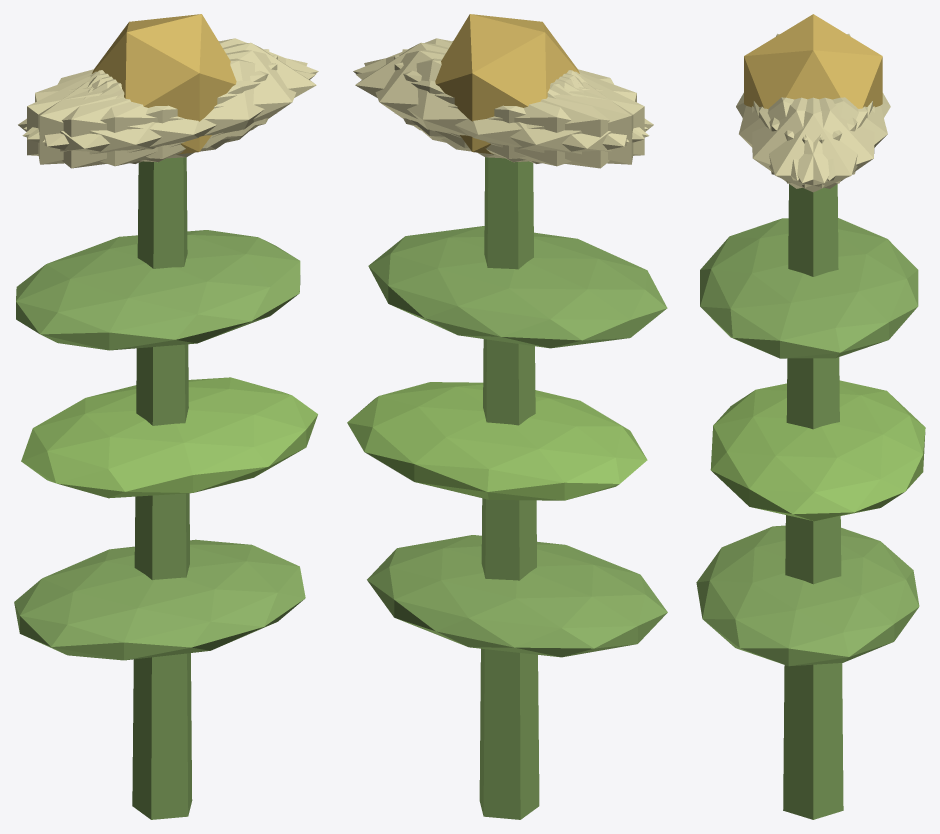
The model's file is pachystachys-coccinea.glb.
The picture shows the model from 3 angles, left to right: view 1: azimuth 30°, elevation 25°; view 2: azimuth 150°, elevation 25°; view 3: azimuth 270°, elevation 25°; orthographic projection.
Parts seen in each view (by area): view 1: leaf2, leaf0, leaf1, stem, center, petal1, petal6, petal2, petal5, petal7, petal0, petal4 (+2 smaller); view 2: leaf2, leaf1, leaf0, stem, center, petal8, petal3, petal7, petal4, petal2, petal0, petal5 (+2 smaller); view 3: leaf2, leaf1, leaf0, stem, center, petal0, petal4, petal5, petal8, petal1.
Part boxes in pixels (<box>): leaf2: <box>16,230,300,350</box>; leaf0: <box>14,539,305,660</box>; leaf1: <box>21,377,317,498</box>; stem: <box>132,157,192,819</box>; center: <box>92,14,236,154</box>; petal1: <box>22,58,315,166</box>; petal6: <box>18,71,230,168</box>; petal2: <box>38,49,269,164</box>; petal5: <box>42,50,307,158</box>; petal7: <box>27,55,277,162</box>; petal0: <box>91,42,316,148</box>; petal4: <box>24,38,318,139</box>; leaf2: <box>368,226,667,348</box>; leaf1: <box>347,382,647,500</box>; leaf0: <box>367,535,667,657</box>; stem: <box>479,157,539,819</box>; center: <box>435,14,579,154</box>; petal8: <box>356,58,649,166</box>; petal3: <box>441,71,653,168</box>; petal7: <box>402,49,633,164</box>; petal4: <box>364,50,629,158</box>; petal2: <box>394,55,644,162</box>; petal0: <box>355,42,580,148</box>; petal5: <box>353,38,647,139</box>; leaf2: <box>700,218,918,358</box>; leaf1: <box>710,380,925,521</box>; leaf0: <box>696,525,919,666</box>; stem: <box>783,184,843,819</box>; center: <box>744,14,882,108</box>; petal0: <box>753,97,872,192</box>; petal4: <box>759,97,874,188</box>; petal5: <box>752,97,867,188</box>; petal8: <box>769,97,887,180</box>; petal1: <box>739,97,857,180</box>.
Bounding box in the file's own units: 0.1464 × 0.3768 × 0.1011.
